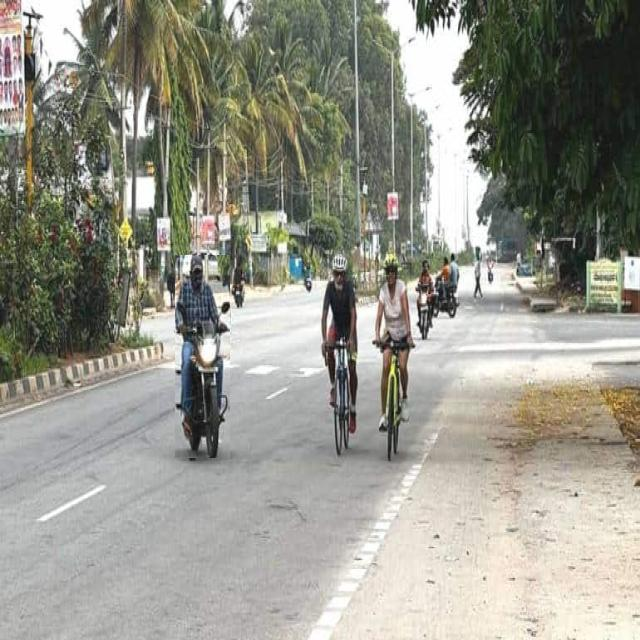bicycle: (375, 253, 414, 457), (321, 253, 358, 452)
motorcycle: (175, 255, 230, 458)
